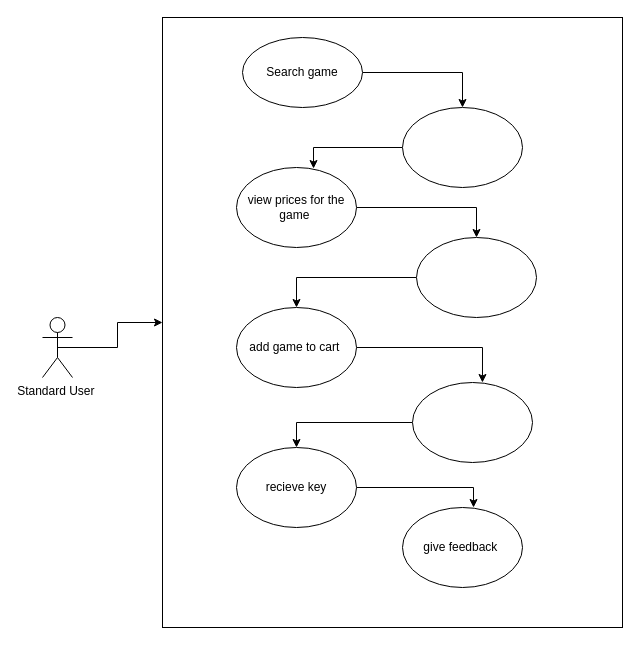
Image size: 640x645. Some labels were removed from this diagram. The centre of each missing label's shape, as x and y in pixels:
"make a secure payment" goes at point 472,422.
"view game" goes at point 462,147.
"view game reviews" goes at point 476,277.
